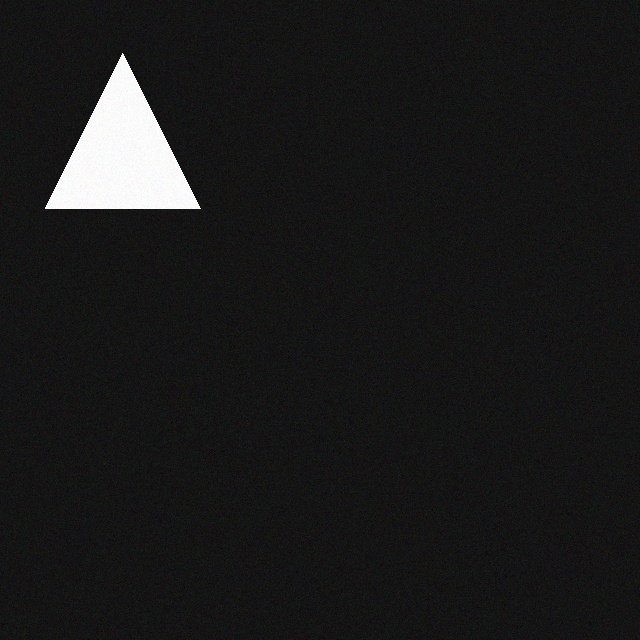triangle: (49, 43, 204, 198)
